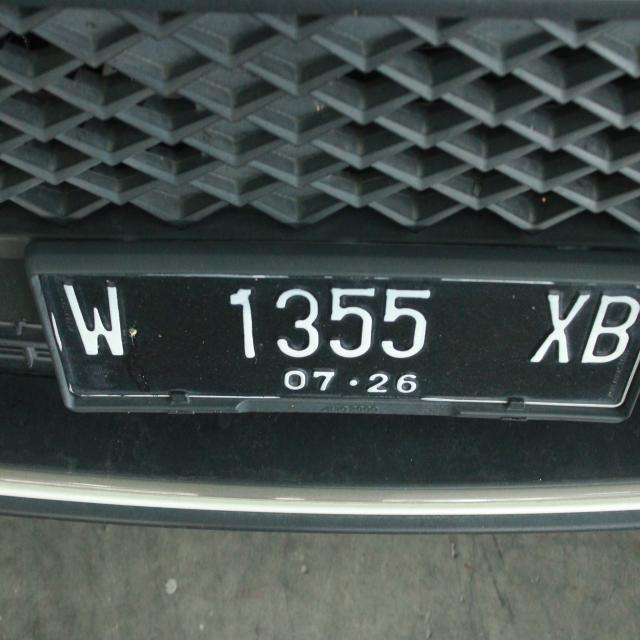1: (218, 272, 273, 378)
5: (371, 270, 438, 370), (322, 270, 378, 368)
B: (578, 272, 639, 376)
D: (261, 270, 323, 368)
W: (44, 259, 138, 376)
X: (516, 272, 591, 378)
